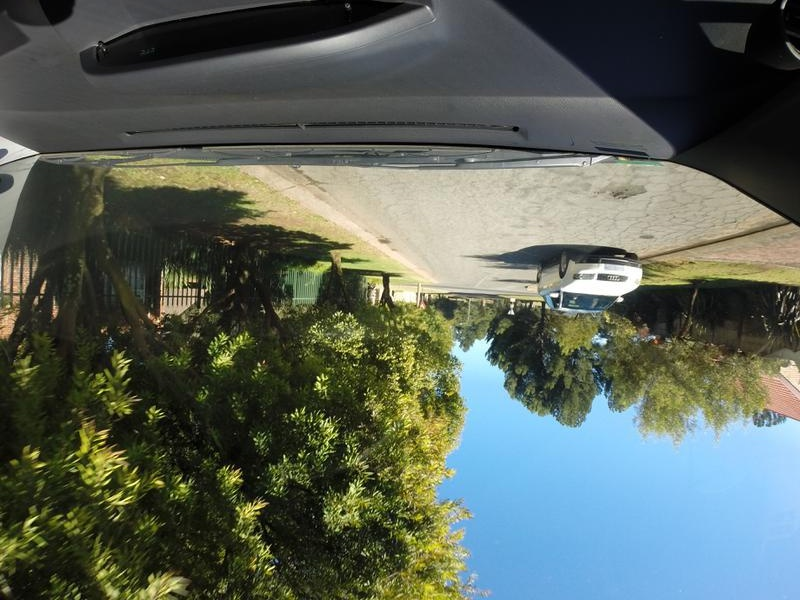pothole: (596, 180, 649, 199), (640, 232, 662, 240)
